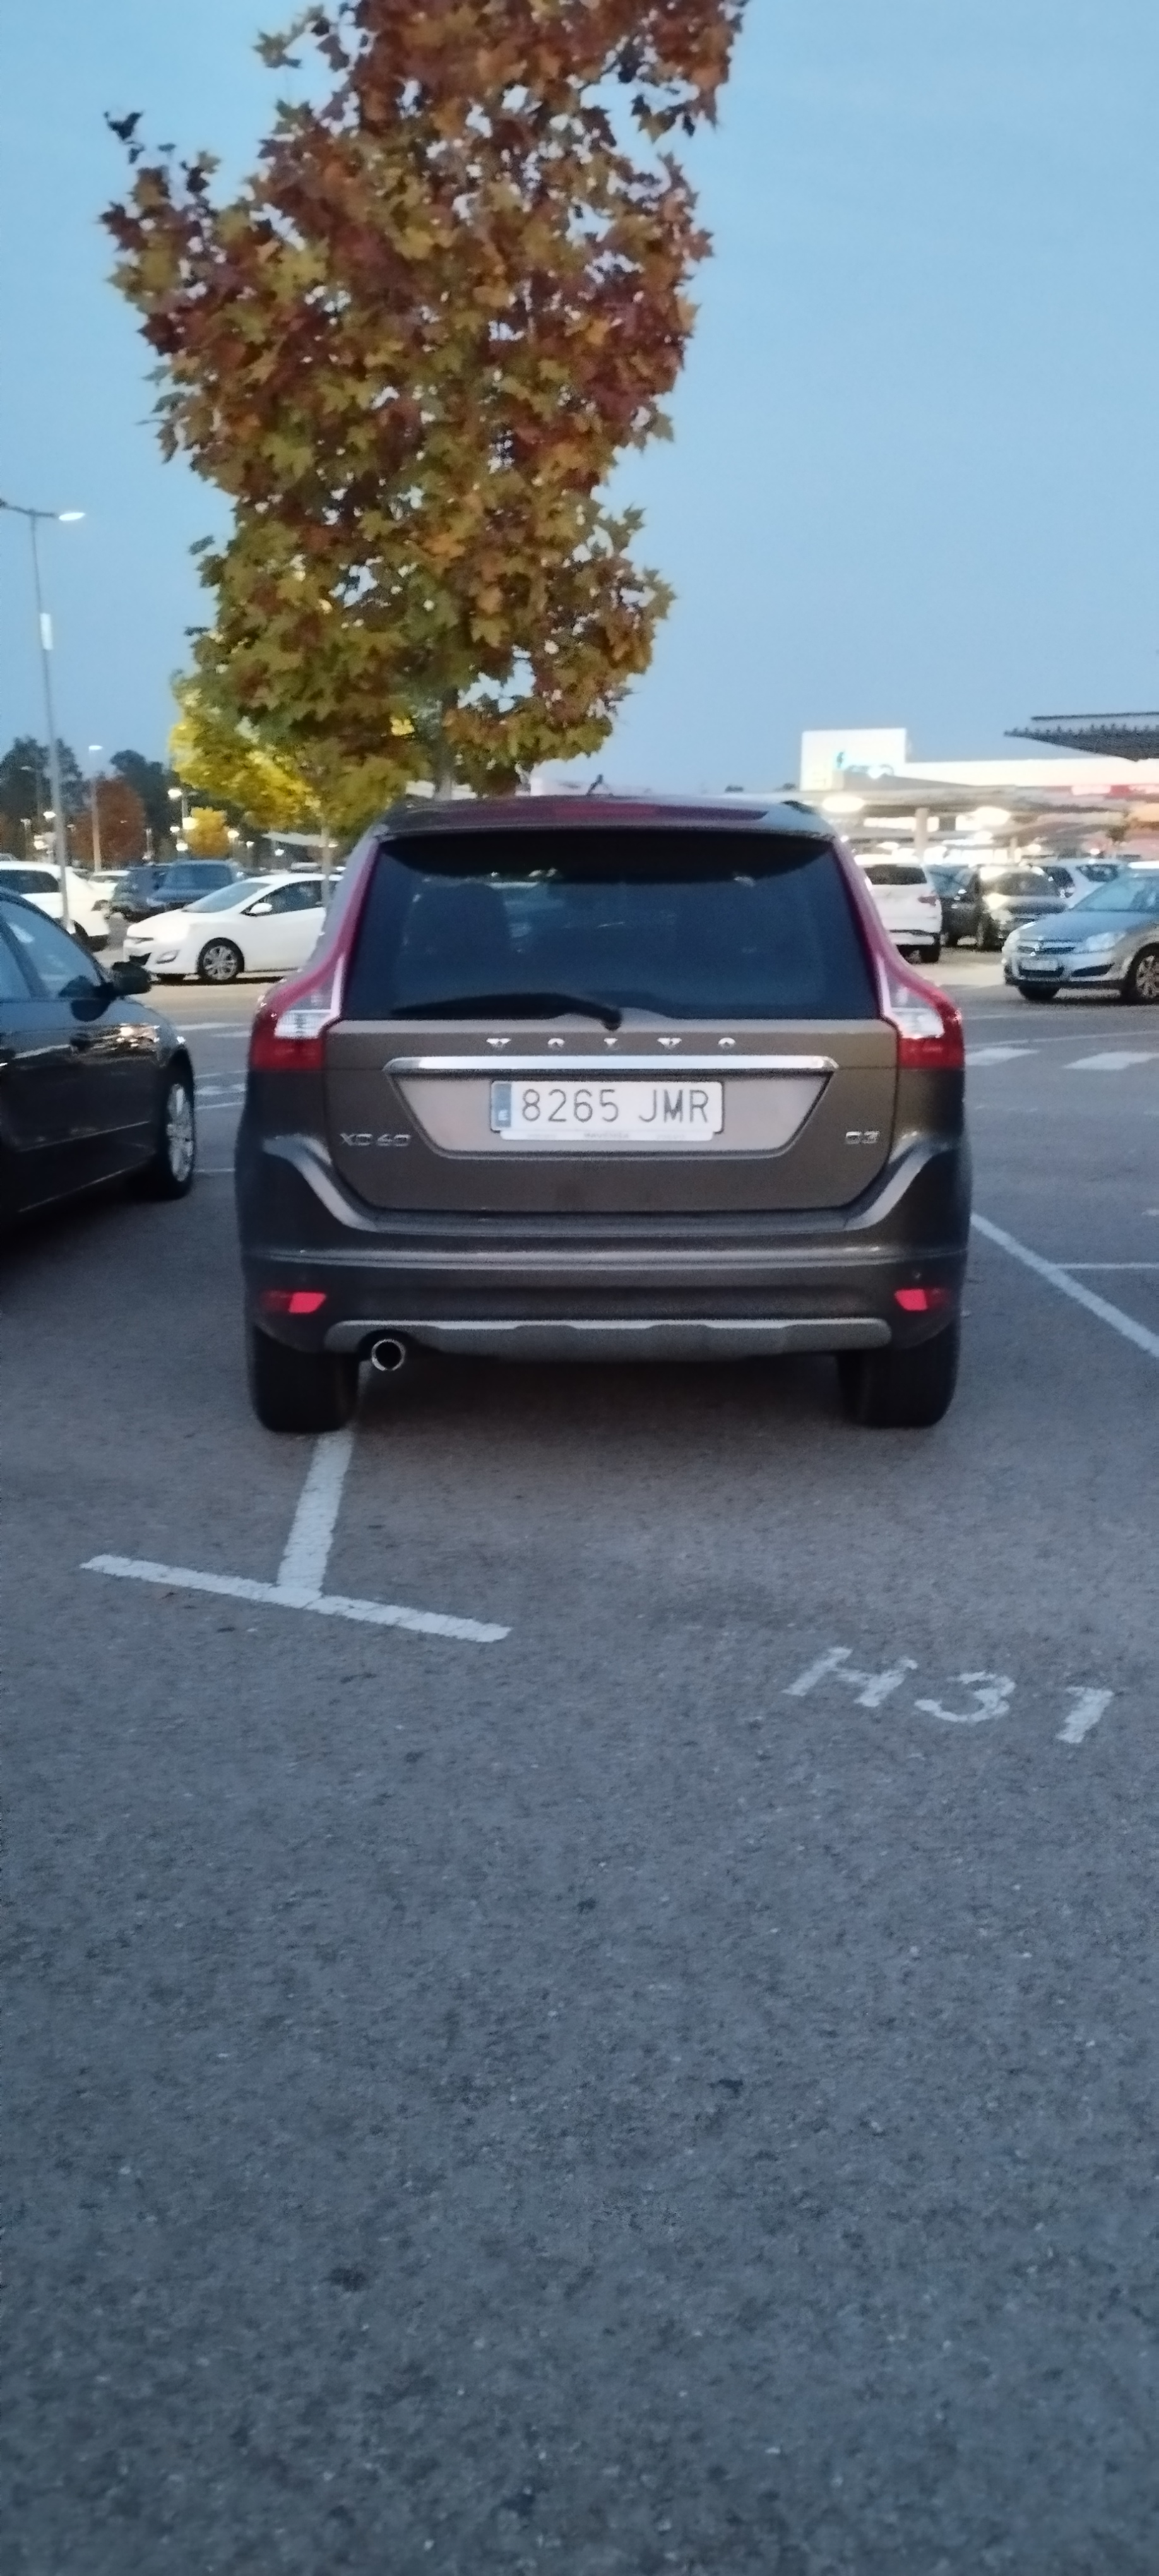Car: (240, 806, 964, 1435)
Plate: (487, 1083, 724, 1143)
